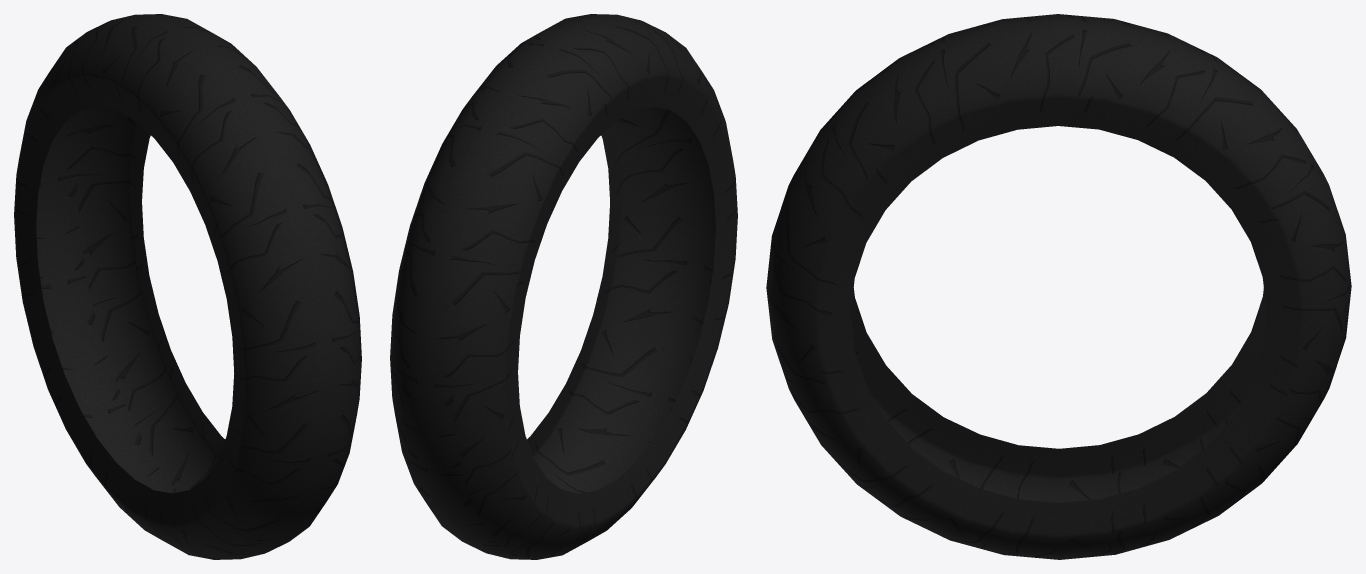
Rendered from frontTire.fbx.
3 renders of one model, left to right at view 1: azimuth 30°, elevation 25°; view 2: azimuth 150°, elevation 25°; view 3: azimuth 270°, elevation 25°, orthographic. The views are drawn at different scales.
Parts seen in each view (by area): view 1: FrontWheel.001; view 2: FrontWheel.001; view 3: FrontWheel.001.
Part boxes in pixels (left/top/right/bottom): FrontWheel.001: left=14, top=14, right=361, bottom=559; FrontWheel.001: left=390, top=14, right=737, bottom=559; FrontWheel.001: left=766, top=14, right=1351, bottom=559.
Size of the model in its own units: 24.97 by 105 by 105.
